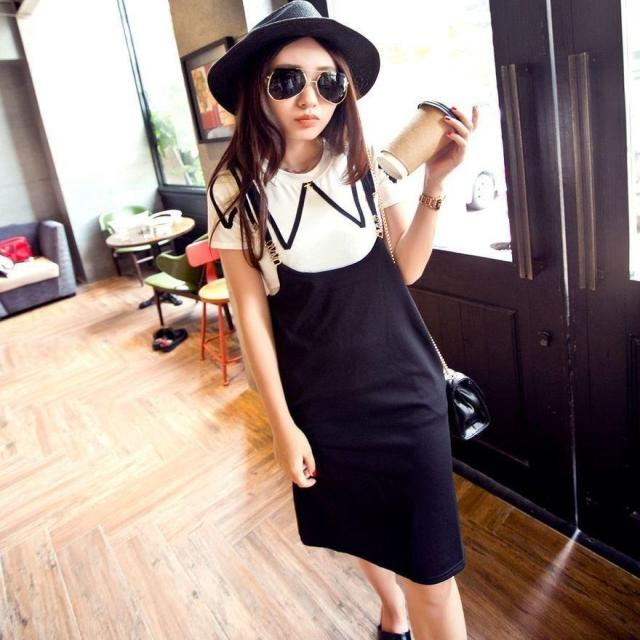short sleeve top: (208, 134, 411, 328)
sling dress: (229, 141, 466, 585)
